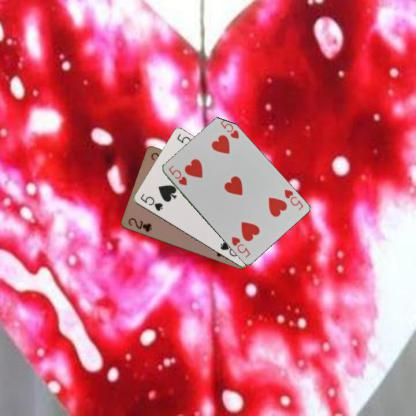2c: (125, 216, 153, 234)
5h: (282, 186, 304, 212), (166, 163, 188, 187)
5s: (138, 191, 164, 212)
